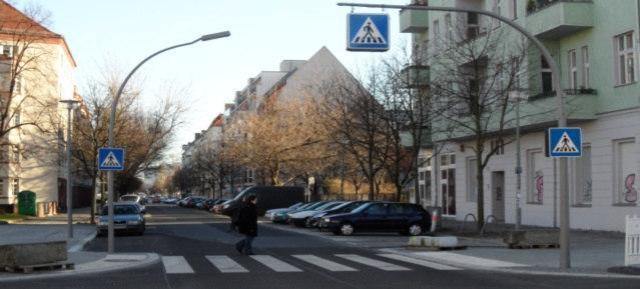crosswalk-sign: (347, 14, 391, 53), (548, 127, 583, 159), (99, 148, 126, 172)
